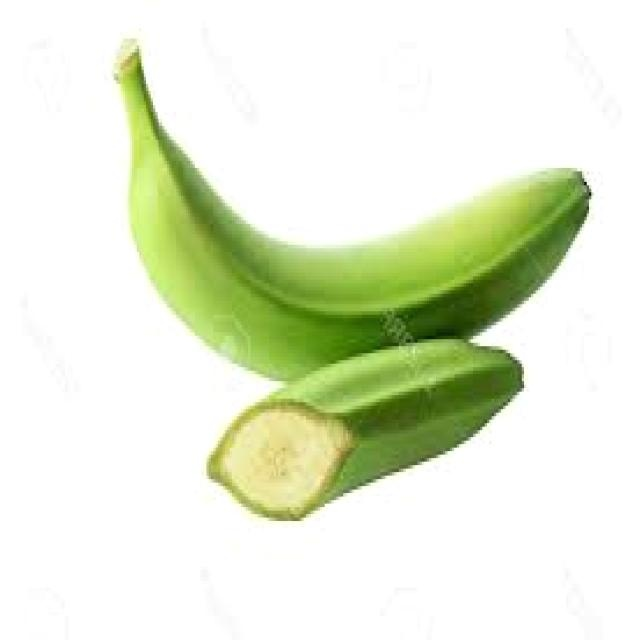agrume: (116, 43, 592, 385)
